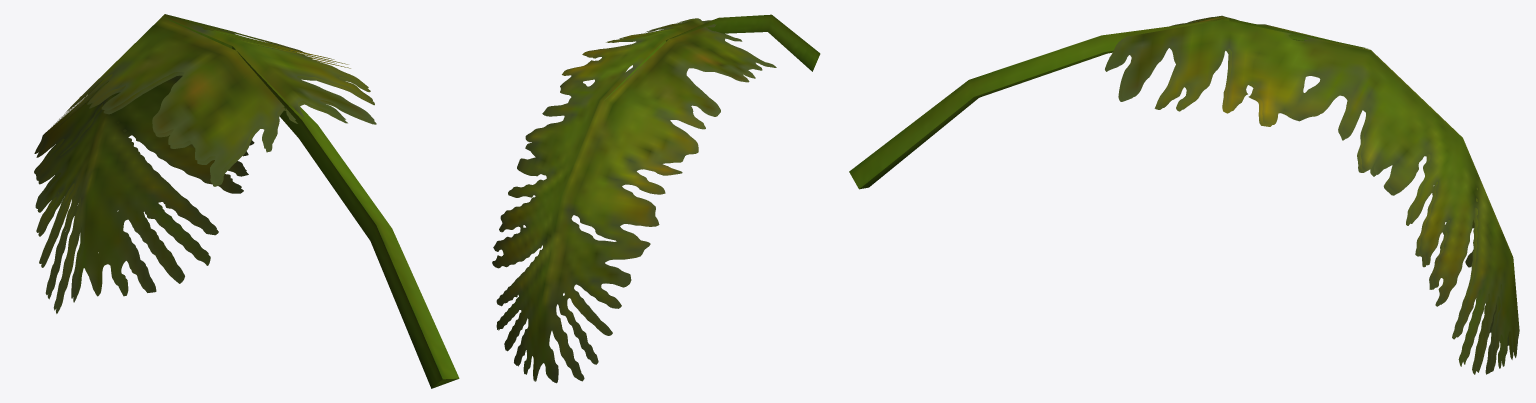
The model's file is DN_lv4_ywFlower05.FBX.
3 views of the same model, side by side, from view 1: azimuth 30°, elevation 25°; view 2: azimuth 150°, elevation 25°; view 3: azimuth 270°, elevation 25° (orthographic). The views are drawn at different scales.
Visible parts, largest first — view 1: DN_lv4_ywFlower05; view 2: DN_lv4_ywFlower05; view 3: DN_lv4_ywFlower05.
Part boxes in pixels (x1,y1,x2,y2): DN_lv4_ywFlower05: (34, 14, 459, 388); DN_lv4_ywFlower05: (492, 14, 820, 383); DN_lv4_ywFlower05: (849, 15, 1519, 374).
Bounding box in the file's own units: 64.02 × 90.47 × 163.
